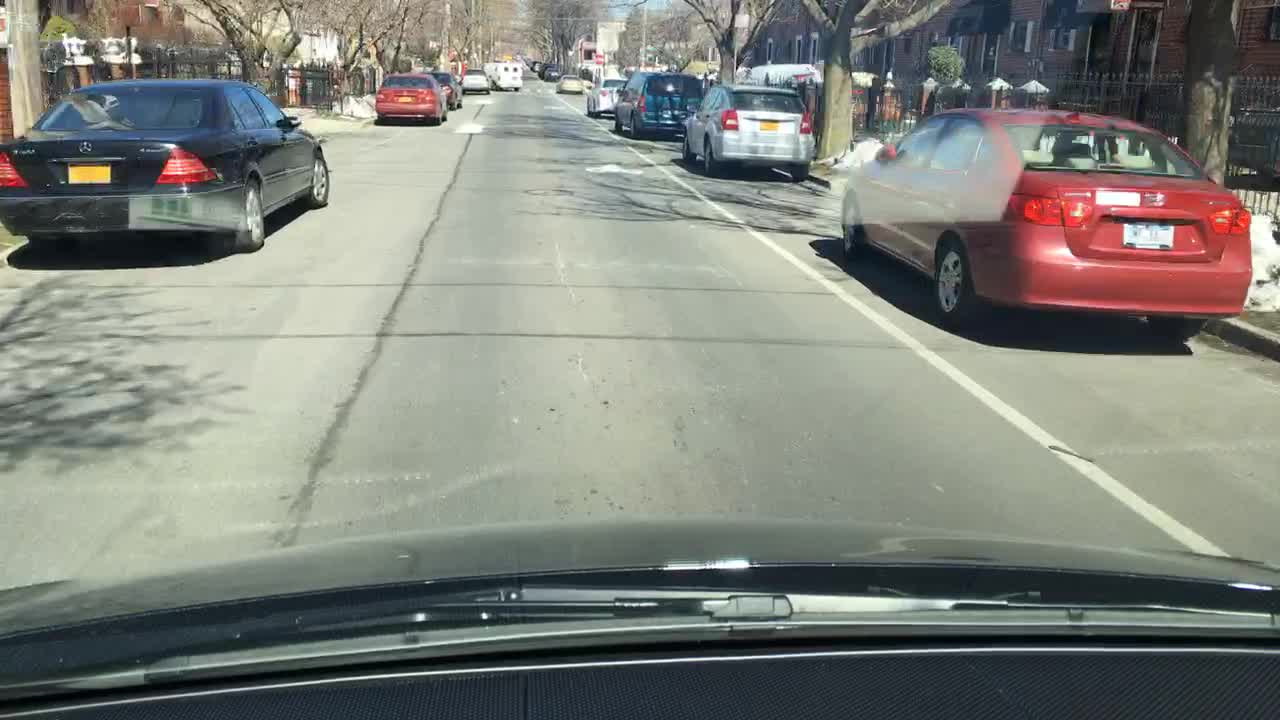car: (837, 104, 1254, 337), (0, 78, 329, 253), (678, 82, 814, 170), (609, 72, 702, 138), (372, 73, 450, 124), (732, 62, 819, 84), (584, 76, 629, 118), (850, 85, 904, 119), (426, 67, 461, 109), (461, 67, 490, 92), (558, 72, 587, 95), (541, 64, 564, 79), (493, 52, 512, 62), (486, 61, 500, 72), (530, 61, 544, 70)
truck: (489, 64, 525, 95)
